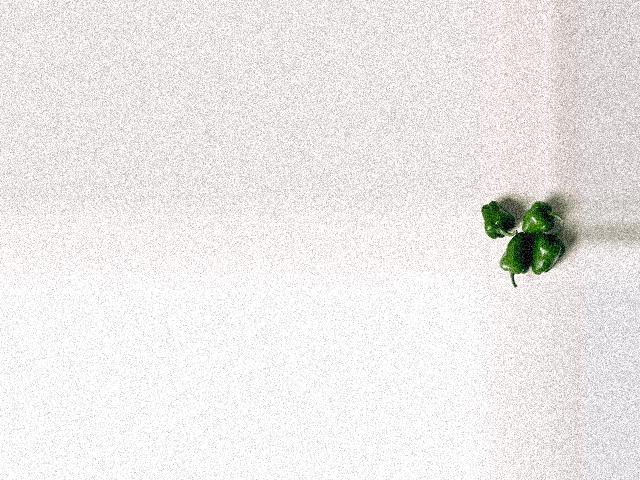bell_pepper: (519, 201, 561, 231)
